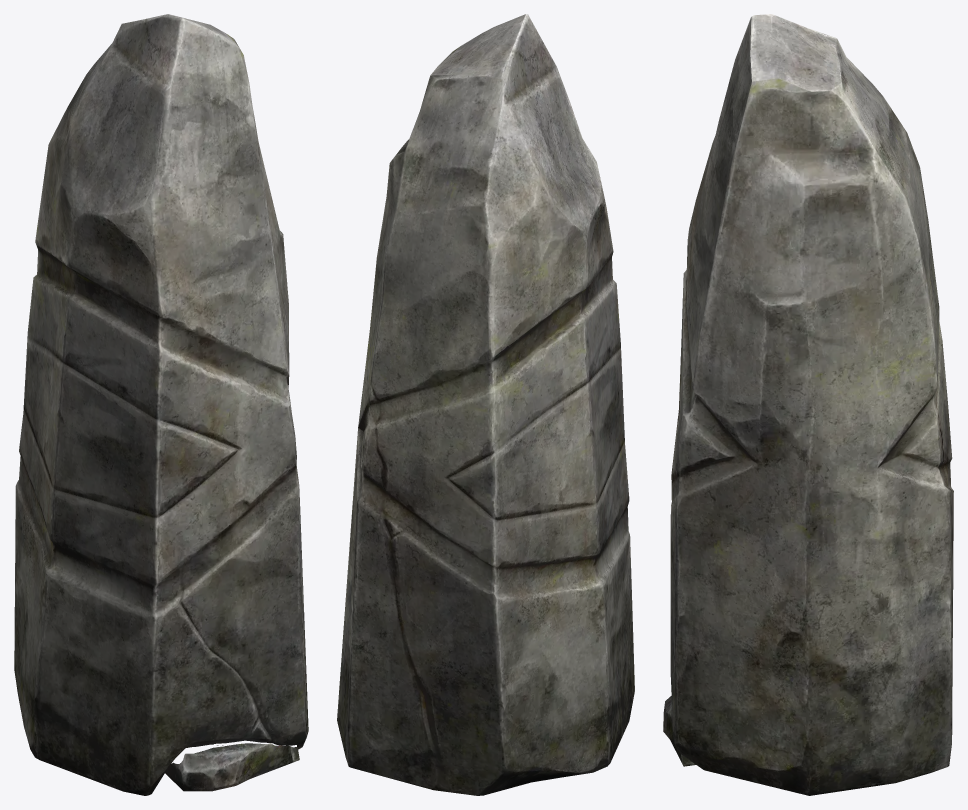
The picture shows the model from 3 angles, left to right: view 1: azimuth 30°, elevation 25°; view 2: azimuth 150°, elevation 25°; view 3: azimuth 270°, elevation 25°; orthographic projection. The views are drawn at different scales.
Parts seen in each view (by area): view 1: SM_Waypoint_01_v1_LOD0; view 2: SM_Waypoint_01_v1_LOD0; view 3: SM_Waypoint_01_v1_LOD0.
Boxes of the visible parts, left/top/right/bottom form: SM_Waypoint_01_v1_LOD0: left=14, top=14, right=308, bottom=795; SM_Waypoint_01_v1_LOD0: left=337, top=14, right=634, bottom=795; SM_Waypoint_01_v1_LOD0: left=663, top=14, right=953, bottom=795.
Bounding box in the file's own units: 1.38 × 3.7 × 1.36.
Materials: 1 (1 with a texture image).
